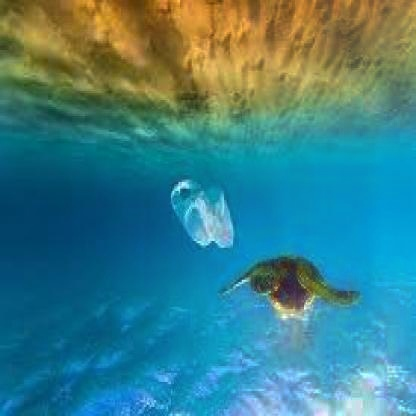pbag: (170, 178, 235, 252)
